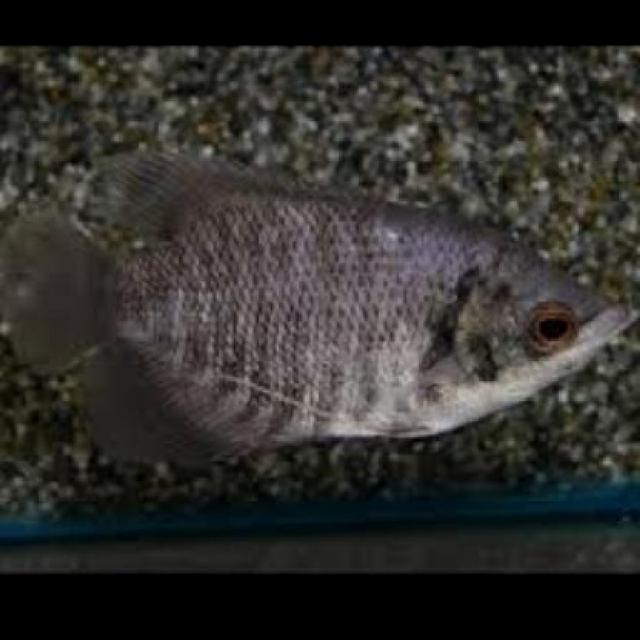gurame: (32, 164, 618, 458)
